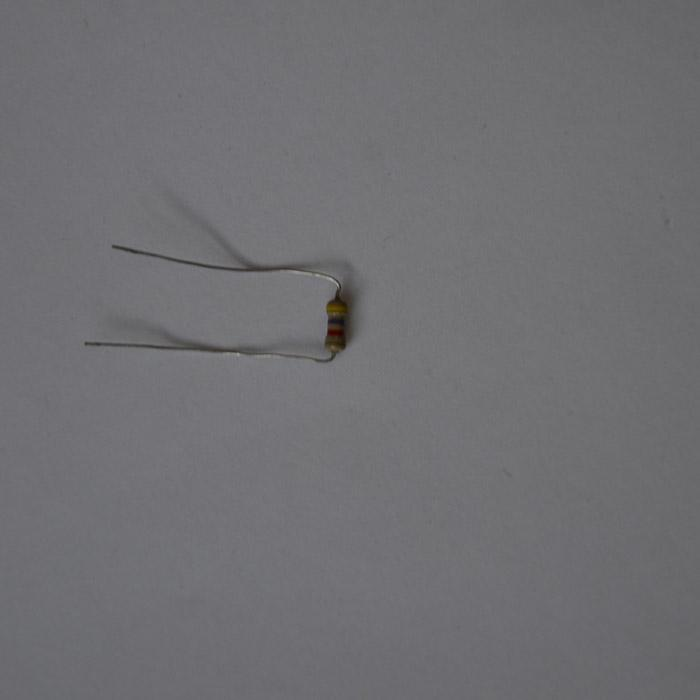resistor: (323, 289, 348, 352)
